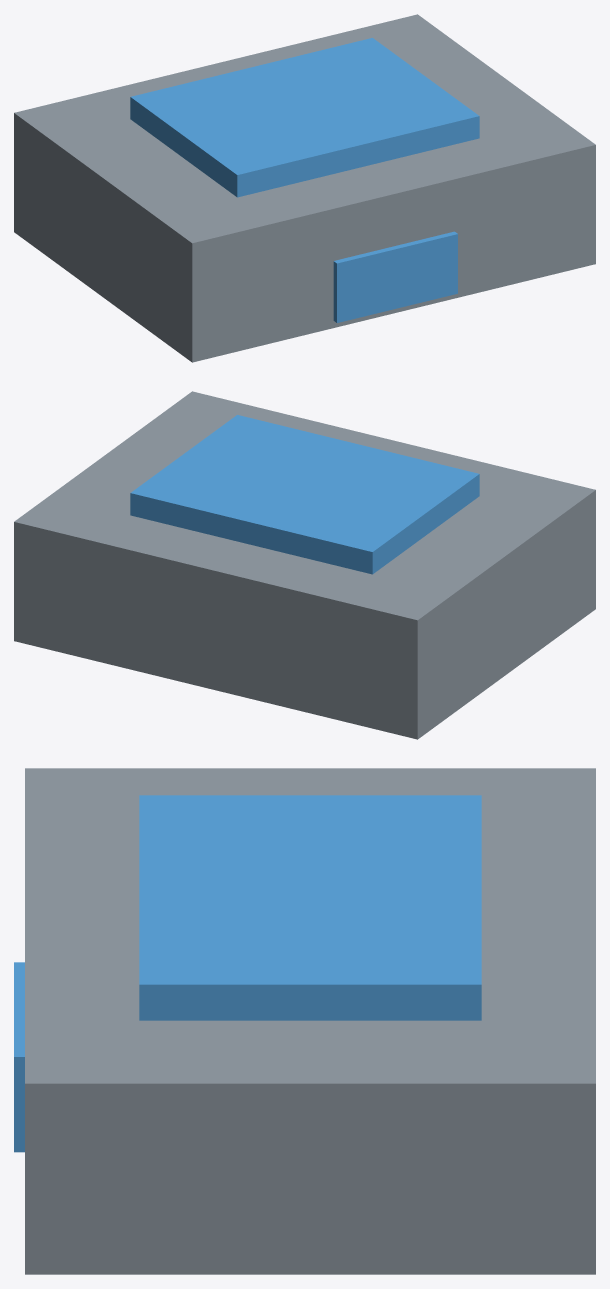
File: AL_VectorVTOL_LOD0.glb
3 renders of one model, top to bottom at view 1: azimuth 30°, elevation 25°; view 2: azimuth 150°, elevation 25°; view 3: azimuth 270°, elevation 25°, orthographic. The views are drawn at different scales.
Visible parts, largest first — view 1: EntranceGate; view 2: EntranceGate; view 3: EntranceGate.
Part boxes in pixels (box(x1,y1,x2,y2)): EntranceGate: box(14, 14, 595, 362); EntranceGate: box(14, 391, 595, 739); EntranceGate: box(14, 768, 595, 1274).
Bounding box in the file's own units: 680 × 228 × 530.
